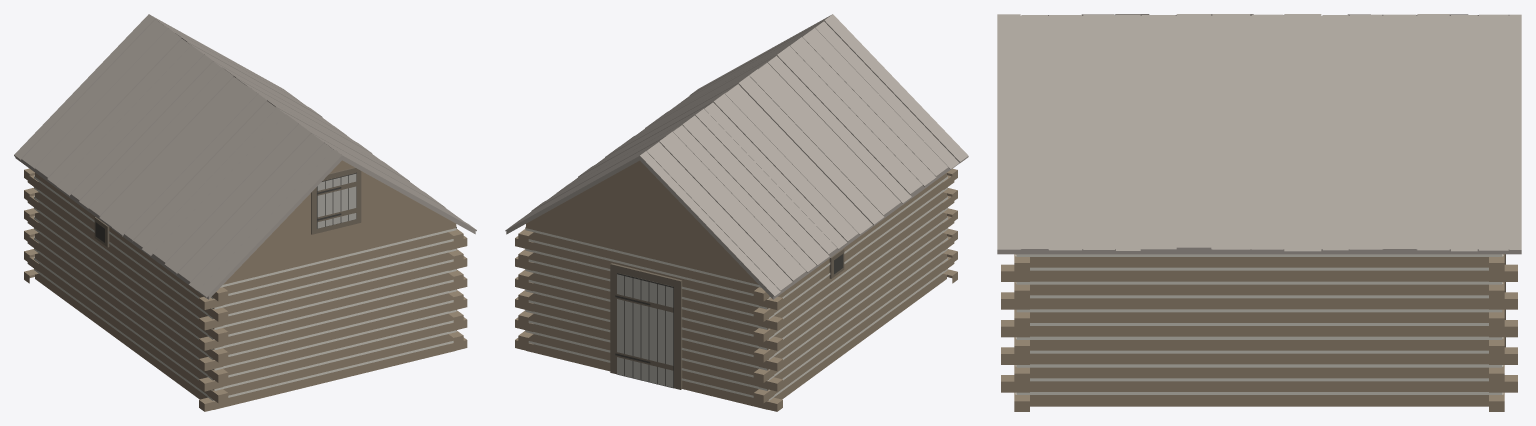
Rendered from recon_1835_blk_washington_market_a1_05__inferred_1835.glb.
3 views of the same model, side by side, from view 1: azimuth 30°, elevation 25°; view 2: azimuth 150°, elevation 25°; view 3: azimuth 270°, elevation 25° (orthographic). The views are drawn at different scales.
Visible parts, largest first — view 1: recon_1835_blk_washington_market_a1_05__inferred_1835; view 2: recon_1835_blk_washington_market_a1_05__inferred_1835; view 3: recon_1835_blk_washington_market_a1_05__inferred_1835.
Boxes of the visible parts, box(x1,y1,x2,y2) form: recon_1835_blk_washington_market_a1_05__inferred_1835: box(14, 14, 476, 411); recon_1835_blk_washington_market_a1_05__inferred_1835: box(505, 14, 968, 411); recon_1835_blk_washington_market_a1_05__inferred_1835: box(997, 14, 1521, 411).
Size of the model in its own units: 6.43 by 5.22 by 7.93.
